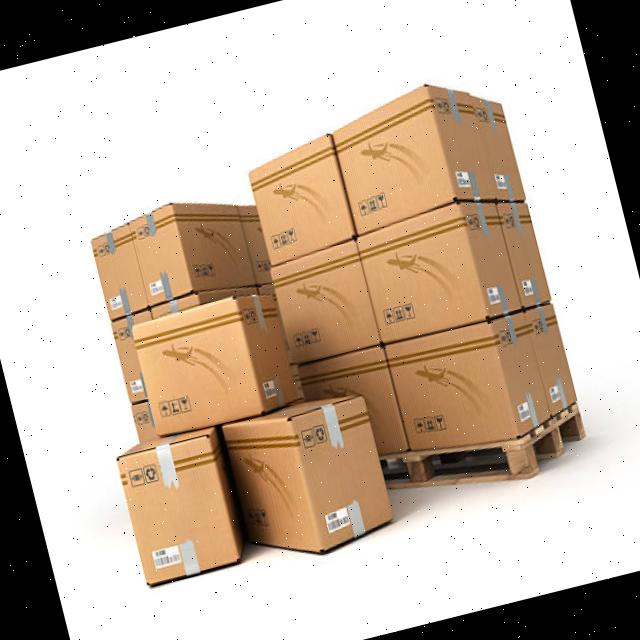Wooden-Pallets: (383, 398, 591, 502)
